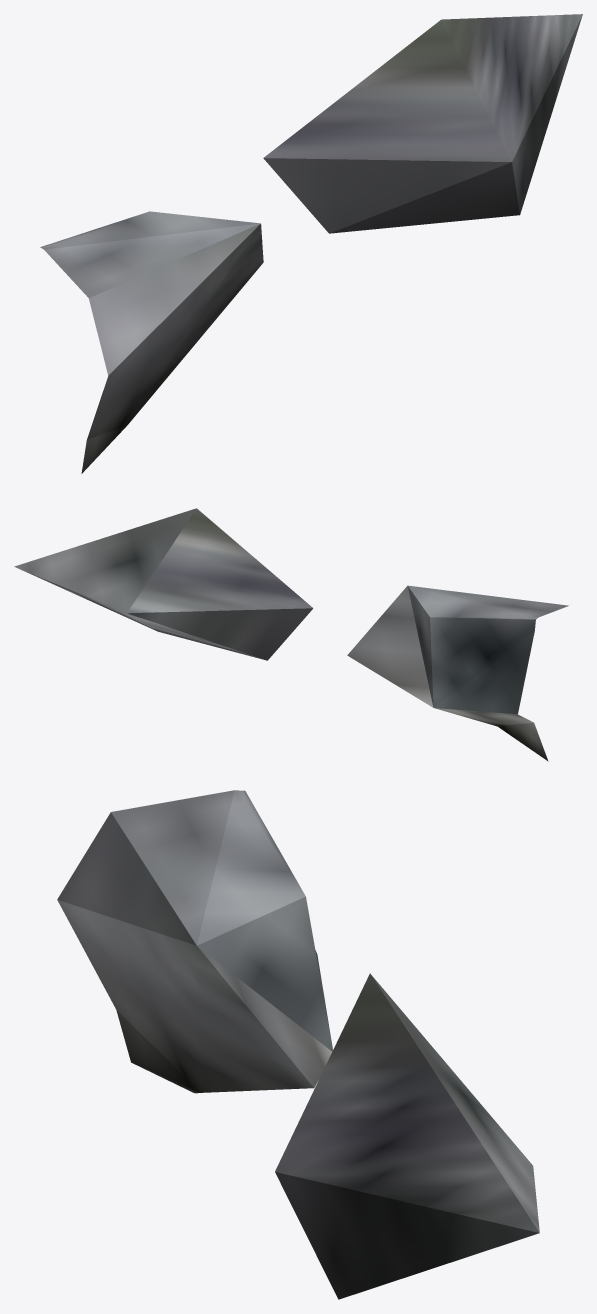
3 views of the same model, one above another, from view 1: azimuth 30°, elevation 25°; view 2: azimuth 150°, elevation 25°; view 3: azimuth 270°, elevation 25° (orthographic). The views are drawn at different scales.
Size of the model in its own units: 0.1539 by 0.069 by 0.0717.
Materials: 1 (1 with a texture image).
